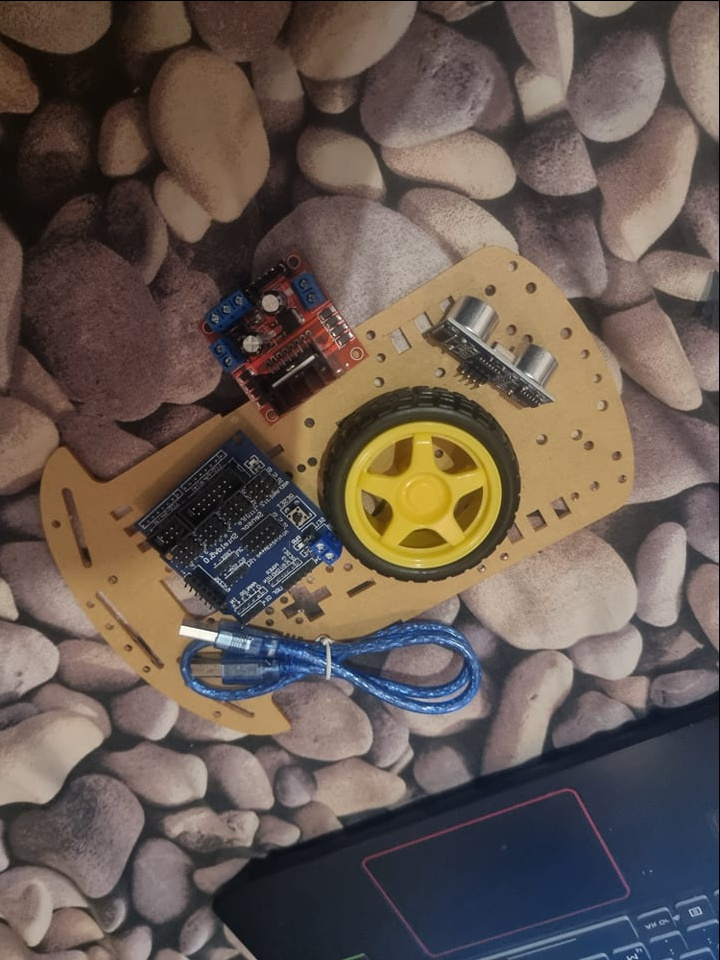5V EXPANSION: (131, 425, 343, 625)
MOTOR: (199, 247, 371, 423)
SENSOR: (430, 293, 560, 408)
